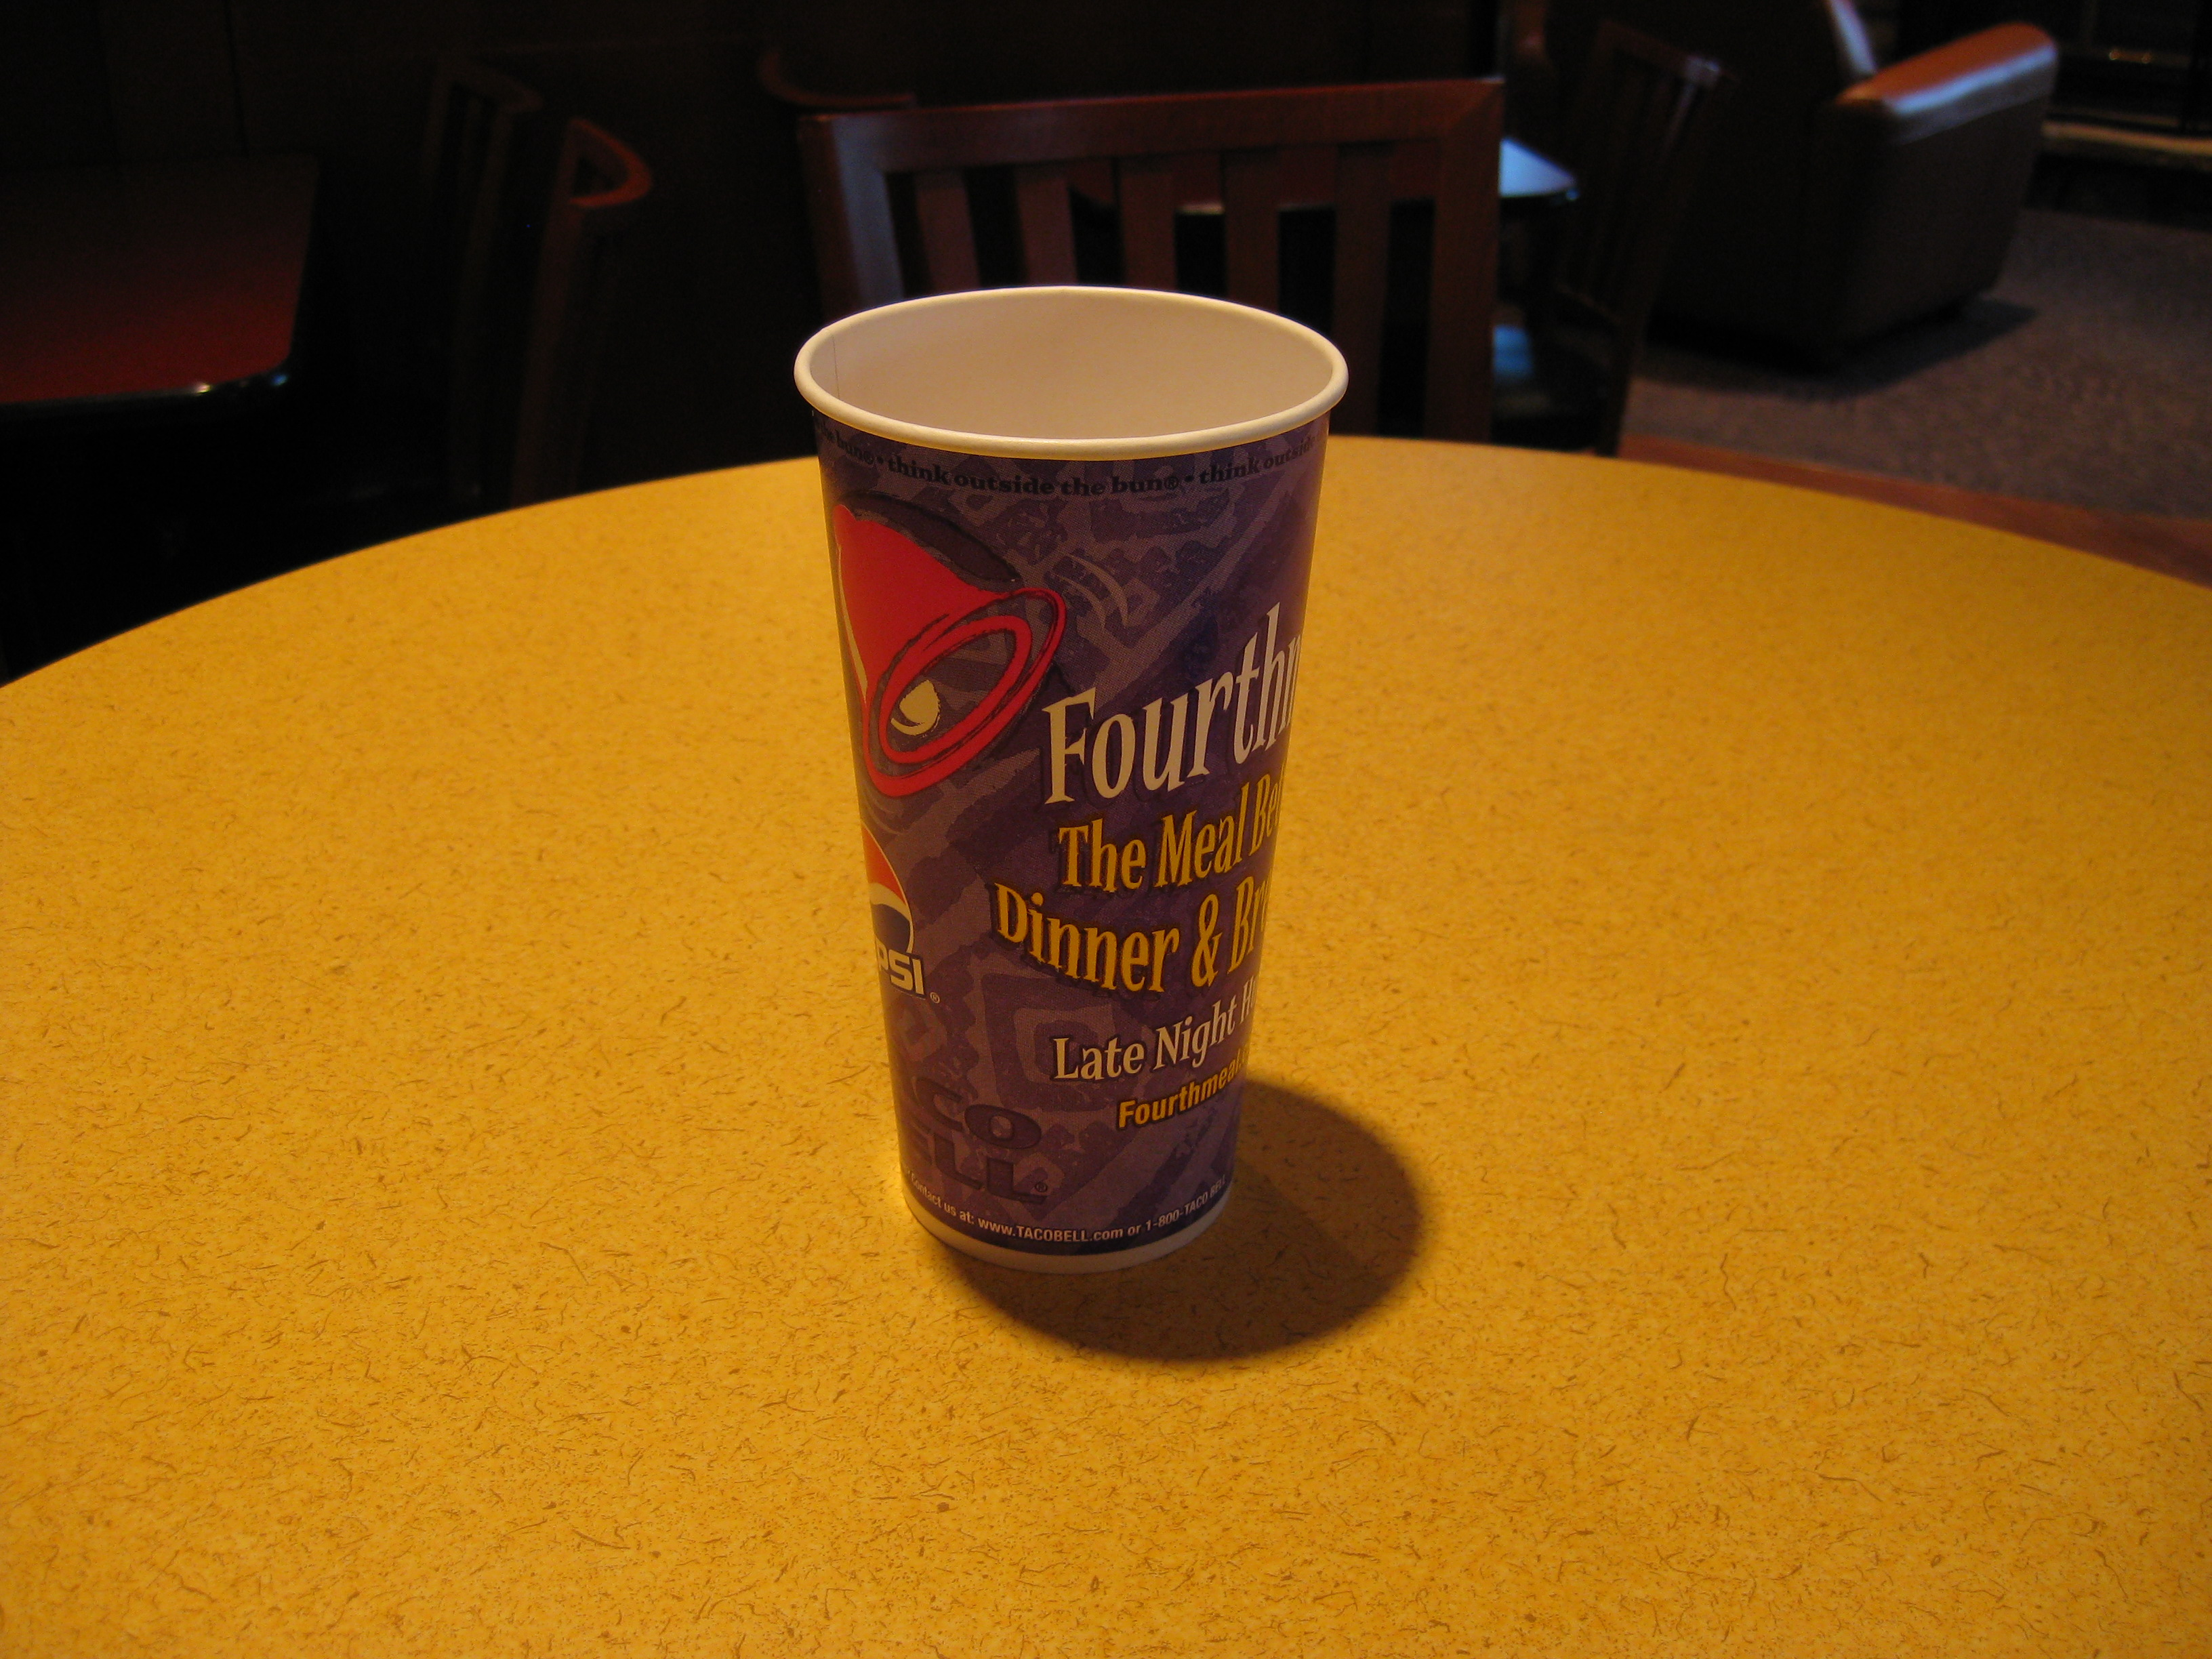drink: (787, 276, 1363, 1327)
